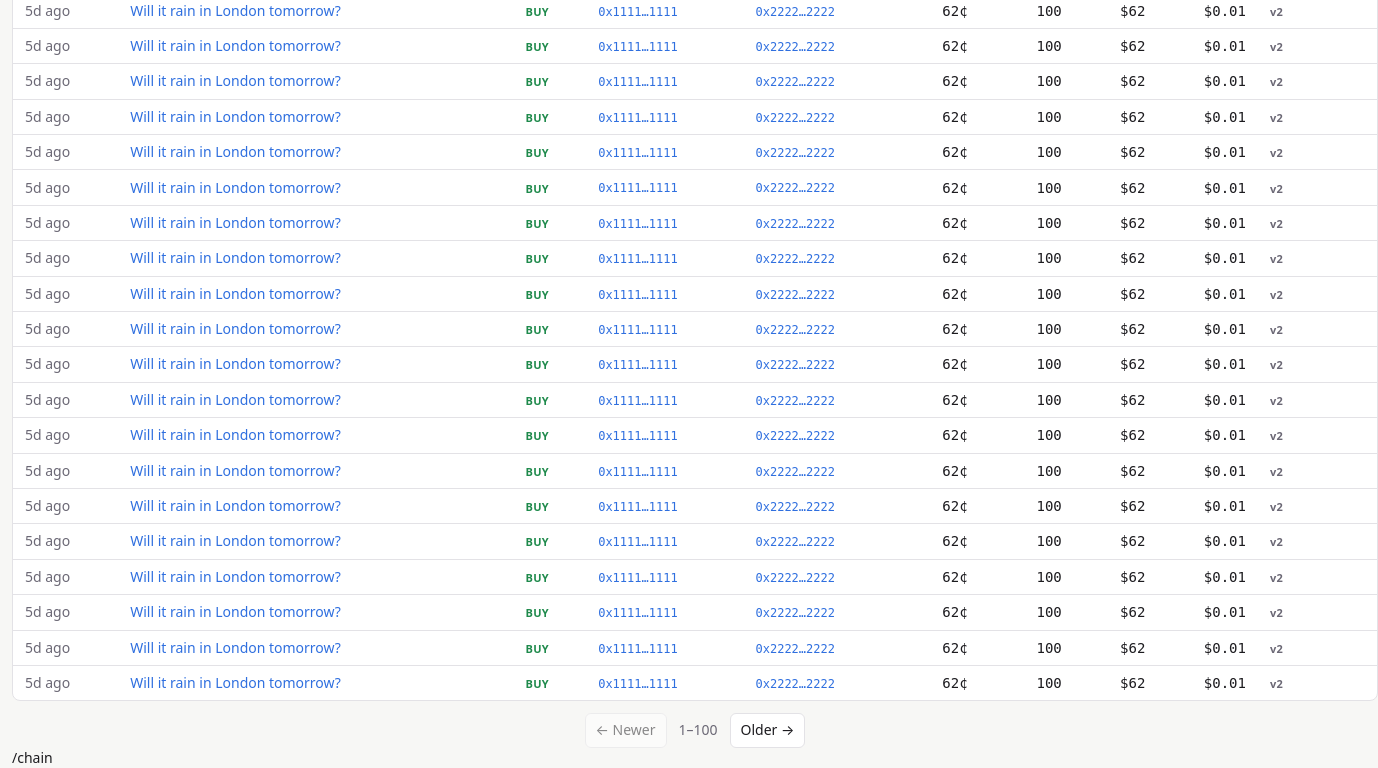
Scenario: On-chain page › pages to older events and back
The image size is (1378, 768).
(page scrolled)
Click the button "Older →": (768, 730) left=730, top=713, right=805, bottom=748
(page scrolled)
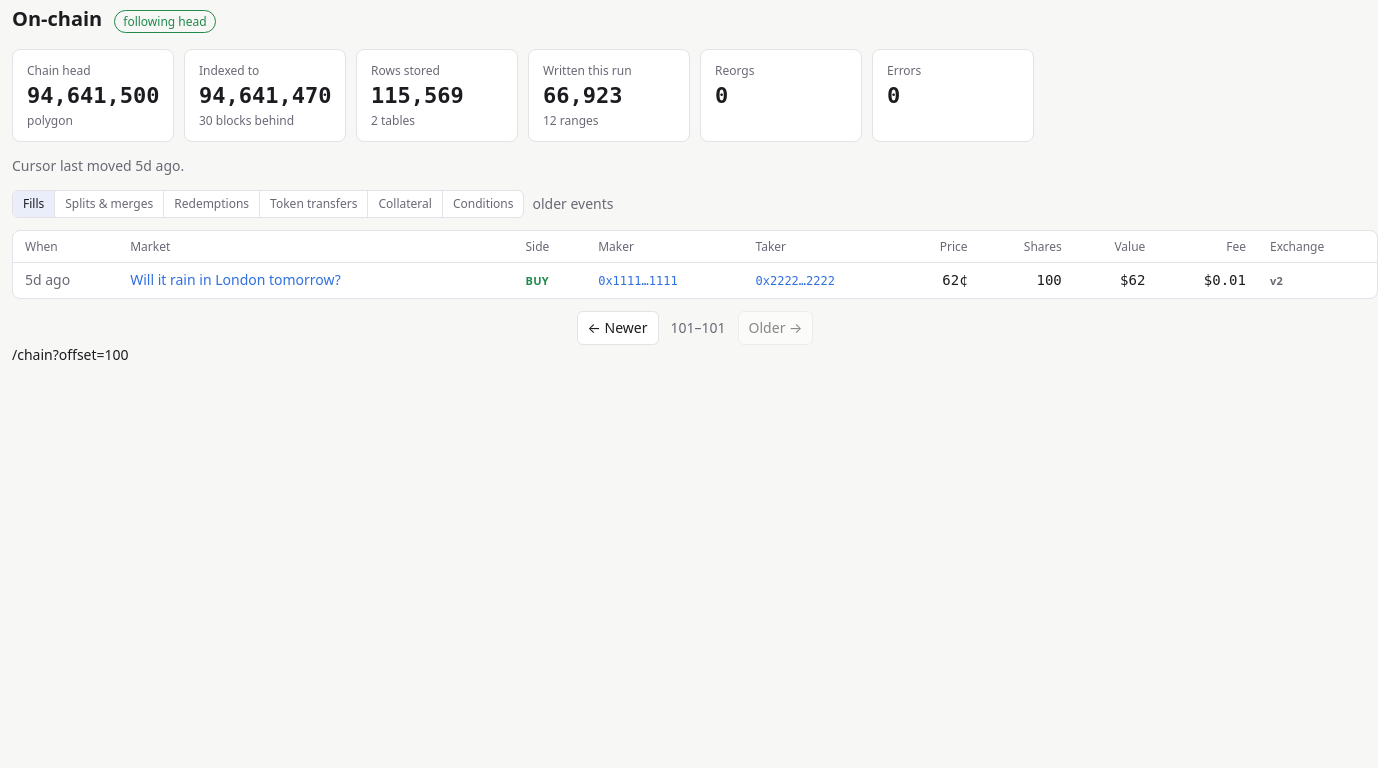
expect the text "older events" is shown: met, box left=532, top=194, right=614, bottom=214
